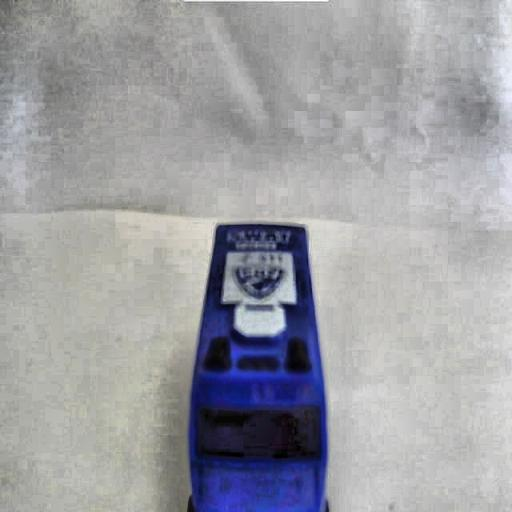police car: (178, 221, 332, 512)
